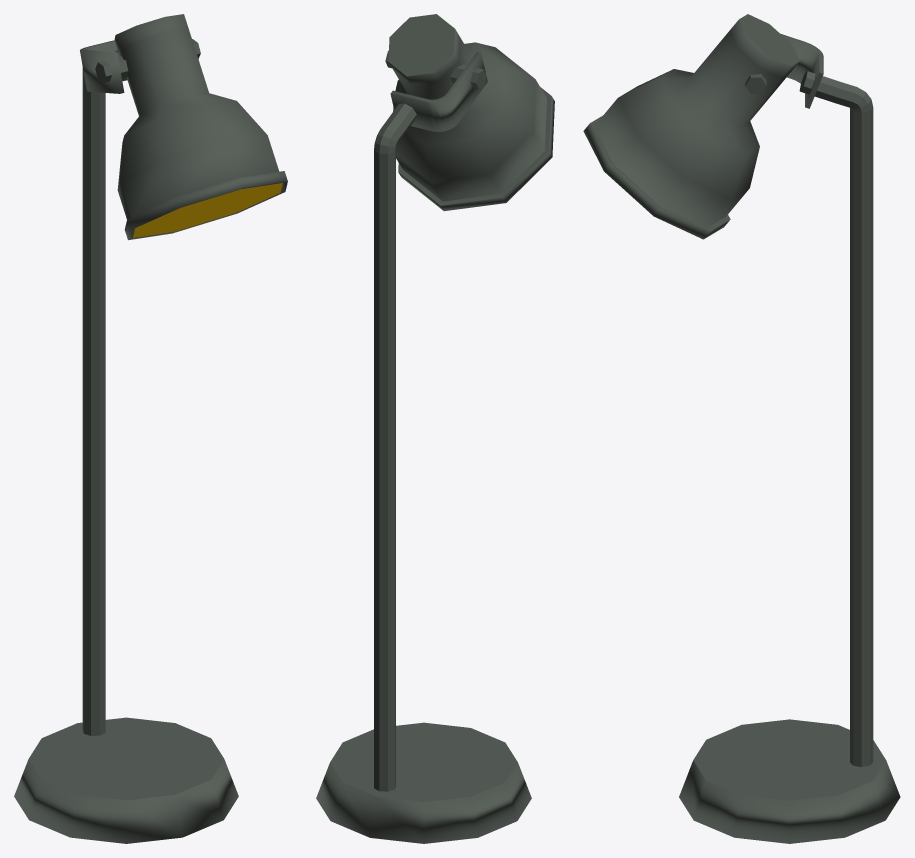
File: Lamp.fbx
3 renders of one model, left to right at view 1: azimuth 30°, elevation 25°; view 2: azimuth 150°, elevation 25°; view 3: azimuth 270°, elevation 25°, orthographic. The views are drawn at different scales.
Visible parts, largest first — view 1: Cylinder.001, Lamp; view 2: Cylinder.001, Lamp; view 3: Cylinder.001, Lamp.
Part boxes in pixels (x1,y1,x2,y2): Cylinder.001: [14, 39, 238, 843]; Lamp: [114, 14, 287, 240]; Cylinder.001: [316, 50, 531, 843]; Lamp: [388, 14, 554, 211]; Cylinder.001: [679, 33, 900, 843]; Lamp: [583, 14, 799, 239].
Size of the model in its own units: 48.92 by 191 by 69.99.
